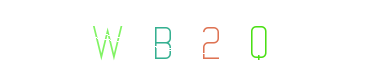2: (168, 0, 248, 80)
B: (155, 0, 235, 80)
Q: (170, 0, 250, 80)
W: (111, 0, 191, 80)
